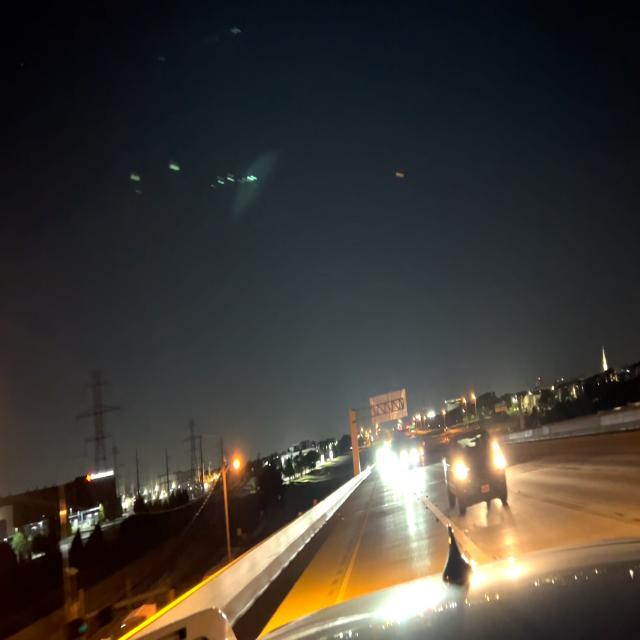back-of-sign: (369, 386, 407, 425)
